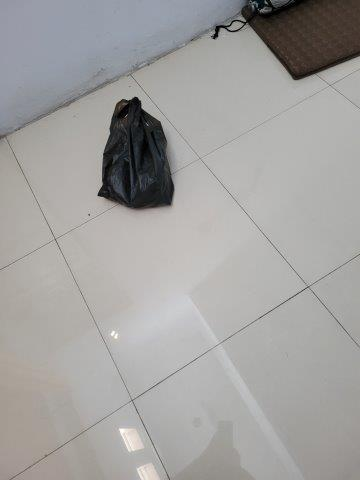plastik: (97, 98, 176, 209)
